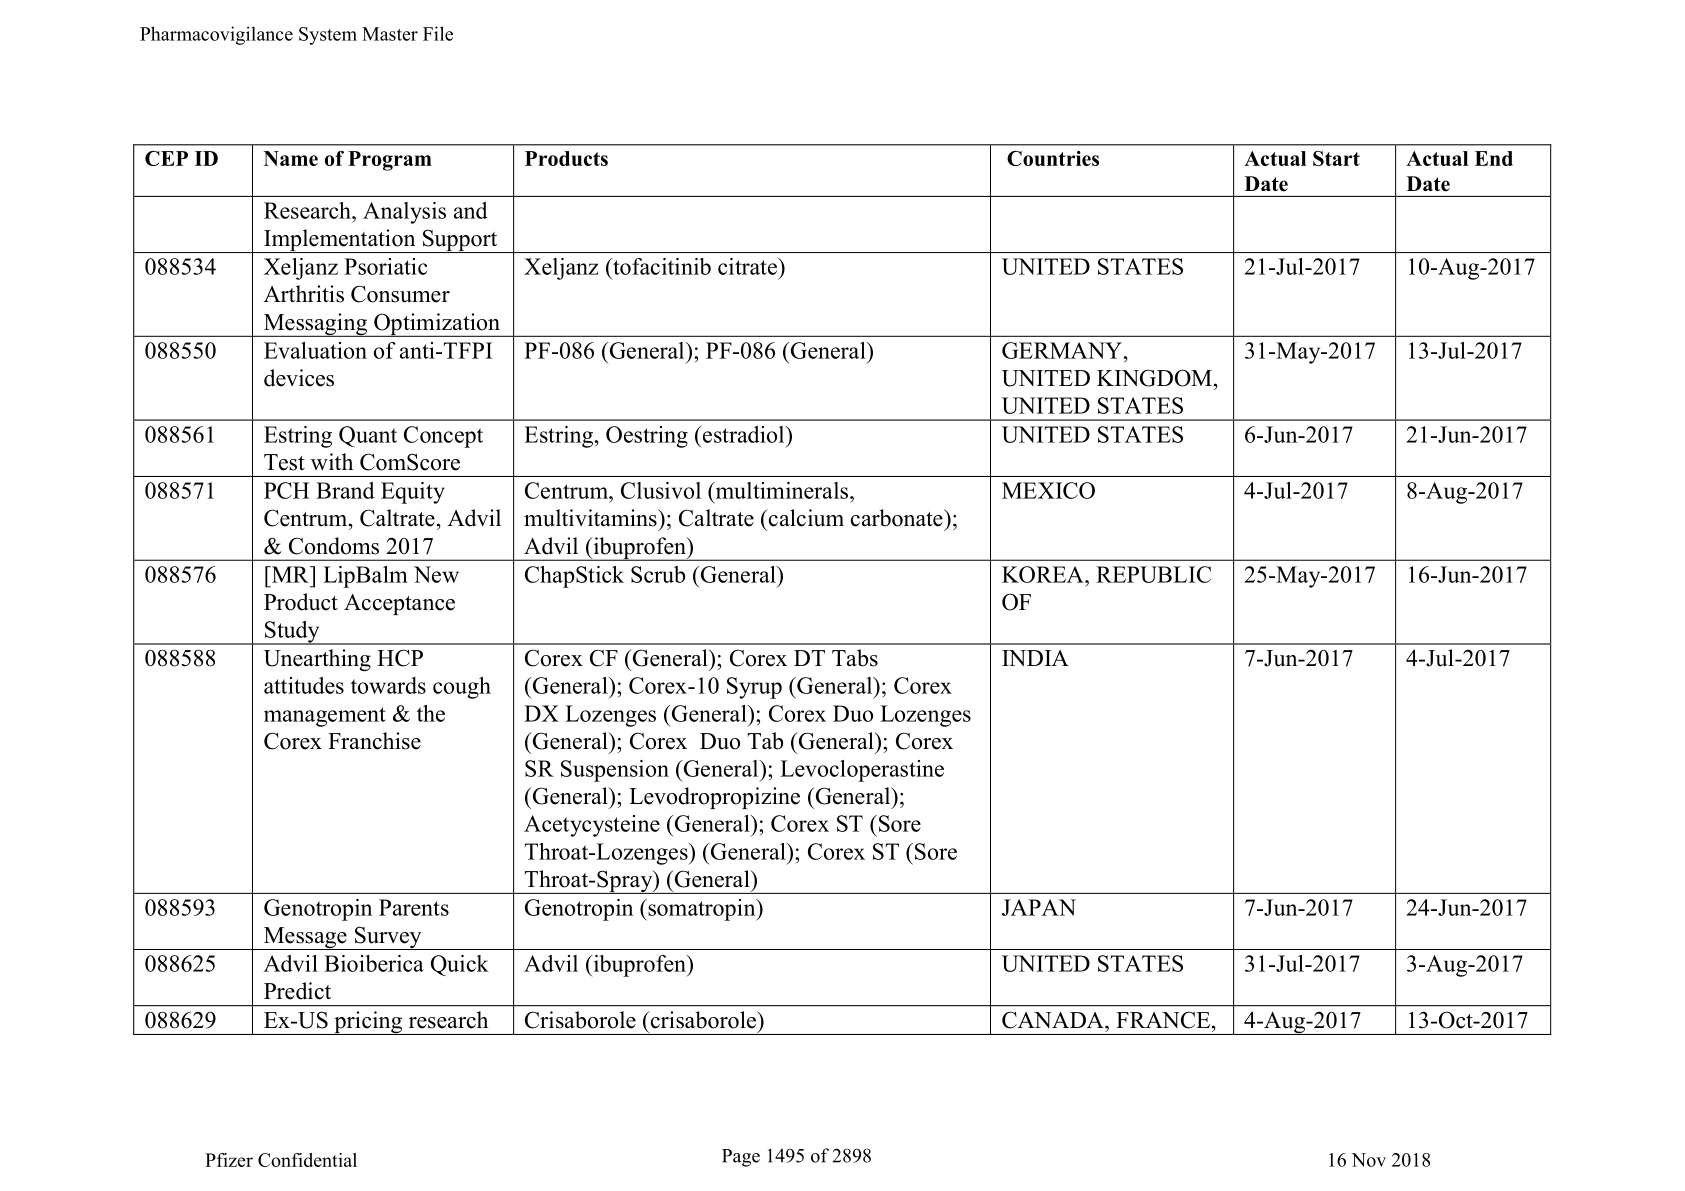full_lined: (131, 143, 1552, 1036)
